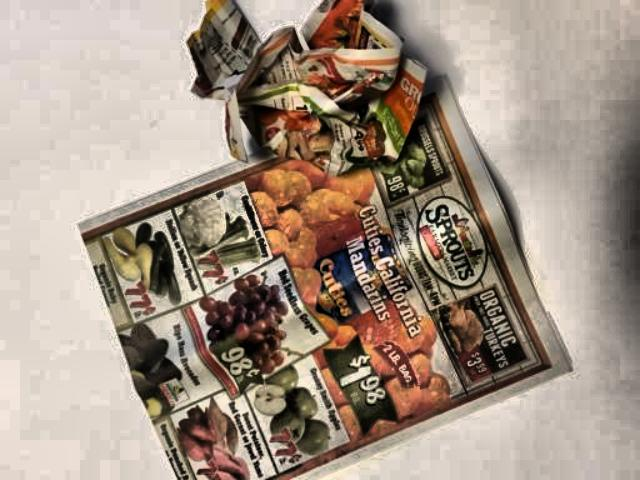Paper: (44, 0, 576, 480)
